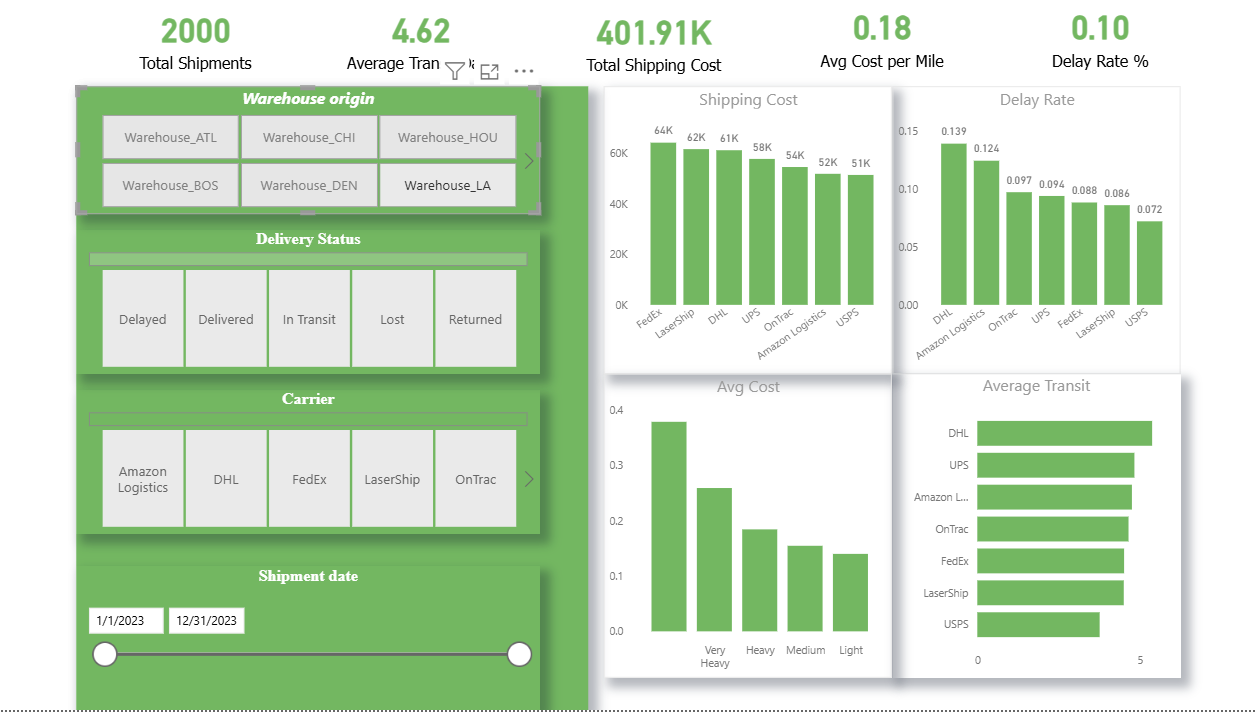

Layout of this report page (visuals, bound fields, positions):
{"tool":"powerbi","page":{"name":"Page 1","canvas":[1280,720],"ordinal":0},"visuals":[{"type":"shape","box":[96,96,512,624],"z":0},{"type":"card","fields":{"Values":["clean_logistics_data.Total Shipments"]},"box":[144,0,144,96],"z":1000},{"type":"card","fields":{"Values":["clean_logistics_data.Total Shipping Cost"]},"box":[593.8,0,160.5,100.2],"z":2000},{"type":"card","fields":{"Values":["clean_logistics_data.Average Transit Days"]},"box":[360.9,0,160,96],"z":3000},{"type":"card","fields":{"Values":["clean_logistics_data.Delay Rate %"]},"box":[1049.7,0,141.3,90.6],"z":4000},{"type":"card","fields":{"Values":["clean_logistics_data.Avg Cost per Mile"]},"box":[827.3,0,149.6,90.6],"z":5000},{"type":"slicer","title":"Carrier","fields":{"Values":["clean_logistics_data.Carrier"]},"box":[96,400,464,144],"z":6000},{"type":"slicer","title":"Warehouse origin","fields":{"Values":["clean_logistics_data.Origin_Warehouse"]},"box":[96,96,464,128],"z":7000},{"type":"slicer","title":"Delivery Status","fields":{"Values":["clean_logistics_data.Status"]},"box":[96,240,464,144],"z":8000},{"type":"slicer","title":"Shipment date","fields":{"Values":["clean_logistics_data.Shipment_Date"]},"box":[96,576,464,144],"z":9000},{"type":"clusteredColumnChart","title":" Shipping Cost ","fields":{"Category":["clean_logistics_data.Carrier"],"Y":["clean_logistics_data.Total Shipping Cost"]},"box":[624,96,288,288],"z":10000},{"type":"clusteredColumnChart","title":"Delay Rate","fields":{"Category":["clean_logistics_data.Carrier"],"Y":["clean_logistics_data.Delay Rate %"]},"box":[912,96,288,288],"z":11000},{"type":"clusteredBarChart","title":"Average Transit","fields":{"Category":["clean_logistics_data.Carrier"],"Y":["clean_logistics_data.Average Transit Days"]},"box":[912,384,288,304],"z":12000},{"type":"clusteredColumnChart","title":"Avg Cost","fields":{"Category":["clean_logistics_data.Weight Category"],"Y":["clean_logistics_data.Avg Cost per Mile"]},"box":[624,384,288,304],"z":13000}]}

Visuals, with their boxes in screenshot pixels (x1, y1, x2, y2):
shape: left=73, top=83, right=587, bottom=709
card - clean_logistics_data.Total Shipments: left=121, top=0, right=266, bottom=83
card - clean_logistics_data.Total Shipping Cost: left=572, top=0, right=733, bottom=87
card - clean_logistics_data.Average Transit Days: left=339, top=0, right=499, bottom=83
card - clean_logistics_data.Delay Rate %: left=1029, top=0, right=1171, bottom=78
card - clean_logistics_data.Avg Cost per Mile: left=806, top=0, right=956, bottom=78
"Carrier" slicer: left=73, top=388, right=538, bottom=532
"Warehouse origin" slicer: left=73, top=83, right=538, bottom=211
"Delivery Status" slicer: left=73, top=228, right=538, bottom=372
"Shipment date" slicer: left=73, top=564, right=538, bottom=709
" Shipping Cost " clusteredColumnChart: left=603, top=83, right=891, bottom=372
"Delay Rate" clusteredColumnChart: left=891, top=83, right=1180, bottom=372
"Average Transit" clusteredBarChart: left=891, top=372, right=1180, bottom=677
"Avg Cost" clusteredColumnChart: left=603, top=372, right=891, bottom=677
